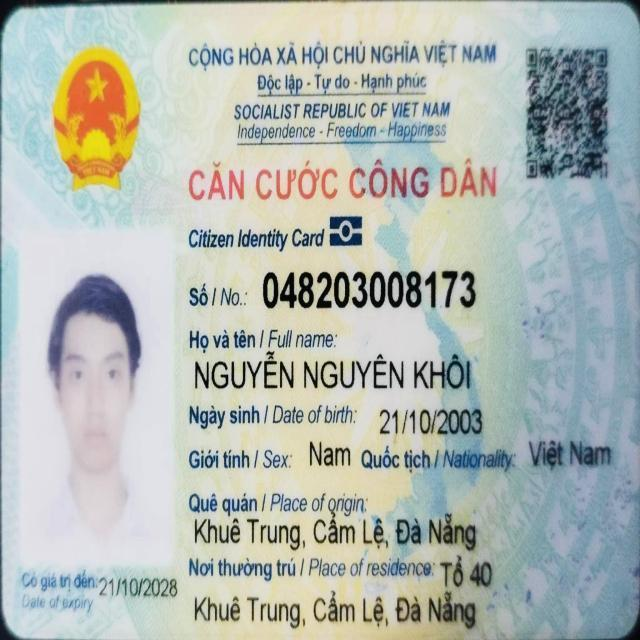current_place: (193, 588, 476, 633), (437, 553, 495, 590)
dob: (378, 405, 484, 440)
expire_date: (98, 575, 179, 601)
gender: (308, 438, 352, 470)
id: (261, 264, 478, 313)
name: (193, 348, 471, 394)
nationality: (526, 437, 613, 473)
origin_place: (193, 510, 478, 553)
